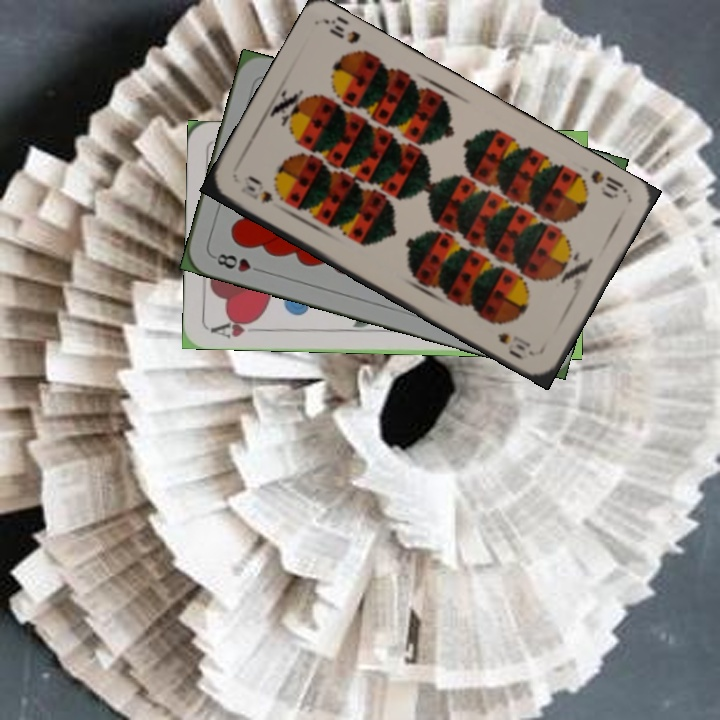H8: (209, 249, 267, 275)
HA: (207, 314, 266, 341)
S10: (586, 166, 630, 202), (236, 180, 276, 207)
